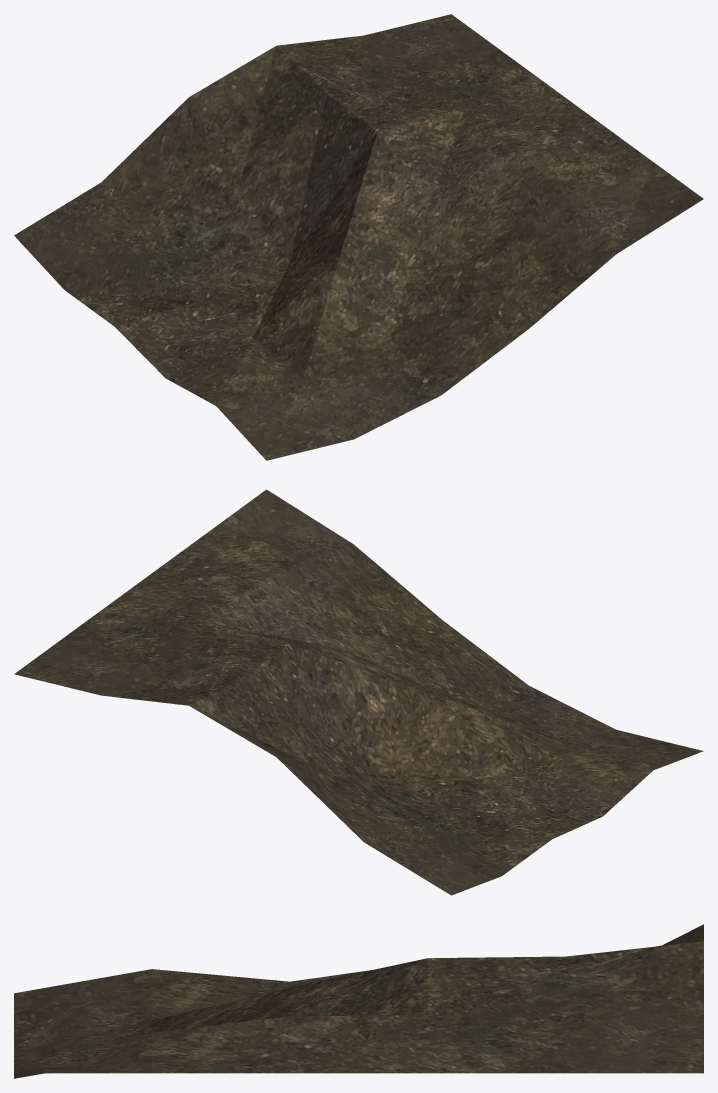
Rendered from blend_weeds05.fbx.
The picture shows the model from 3 angles, top to bottom: view 1: azimuth 30°, elevation 25°; view 2: azimuth 150°, elevation 25°; view 3: azimuth 270°, elevation 25°; orthographic projection. The views are drawn at different scales.
Visible parts, largest first — view 1: obj0.026; view 2: obj0.026; view 3: obj0.026.
Boxes of the visible parts, bbox=[...] form: obj0.026: bbox=[14, 14, 703, 460]; obj0.026: bbox=[14, 489, 703, 895]; obj0.026: bbox=[14, 924, 703, 1078].
Size of the model in its own units: 12.5 by 4.54 by 12.5.
